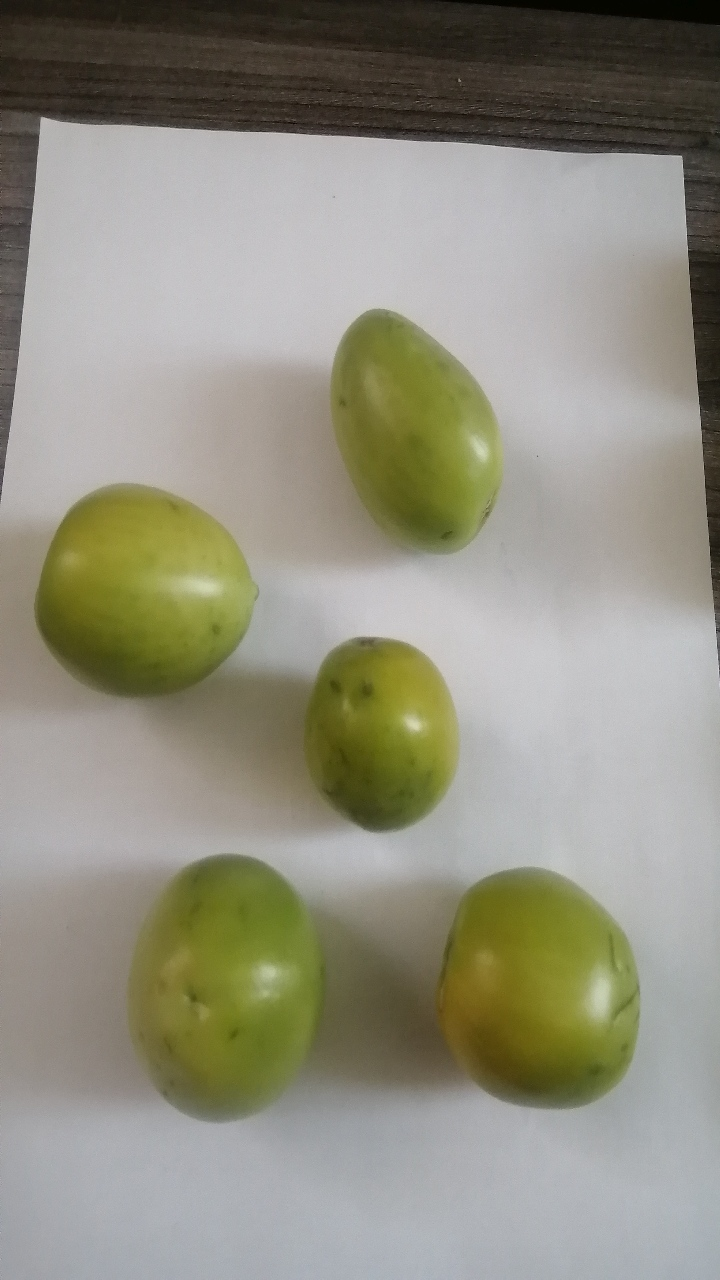tomateVerde: (14, 451, 271, 728), (314, 280, 528, 591), (111, 839, 338, 1120), (417, 848, 646, 1122), (292, 617, 469, 848)
